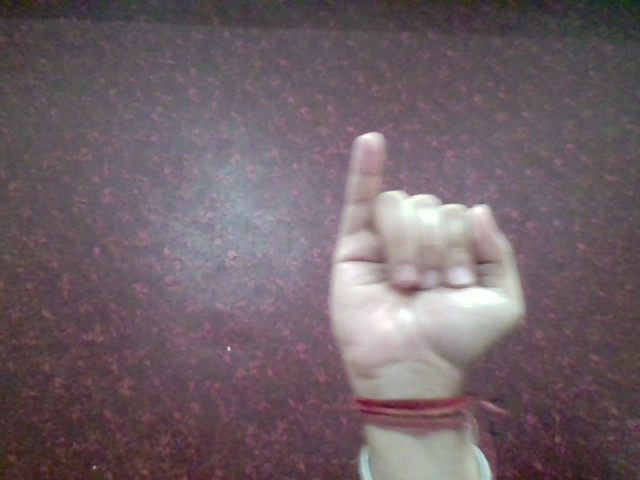i: (321, 122, 537, 396)
